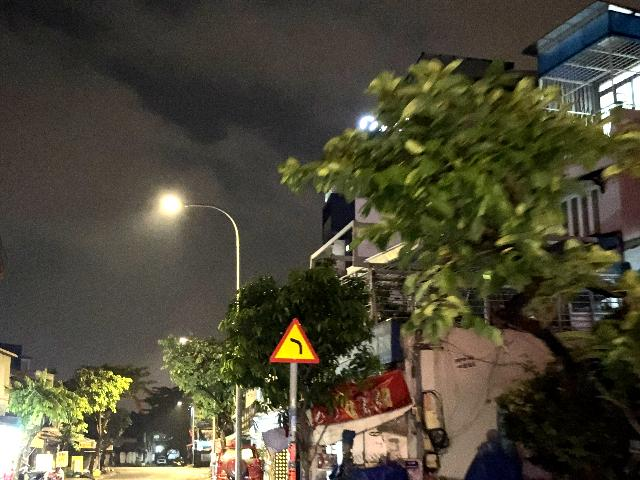cho-ngoat-nguy-hiem-ben-trai: (268, 317, 319, 364)
